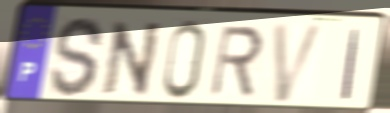0: (161, 17, 207, 102)
I: (339, 27, 362, 103)
N: (100, 20, 164, 99)
R: (208, 23, 266, 99)
S: (47, 15, 107, 100)
V: (271, 21, 328, 105)
